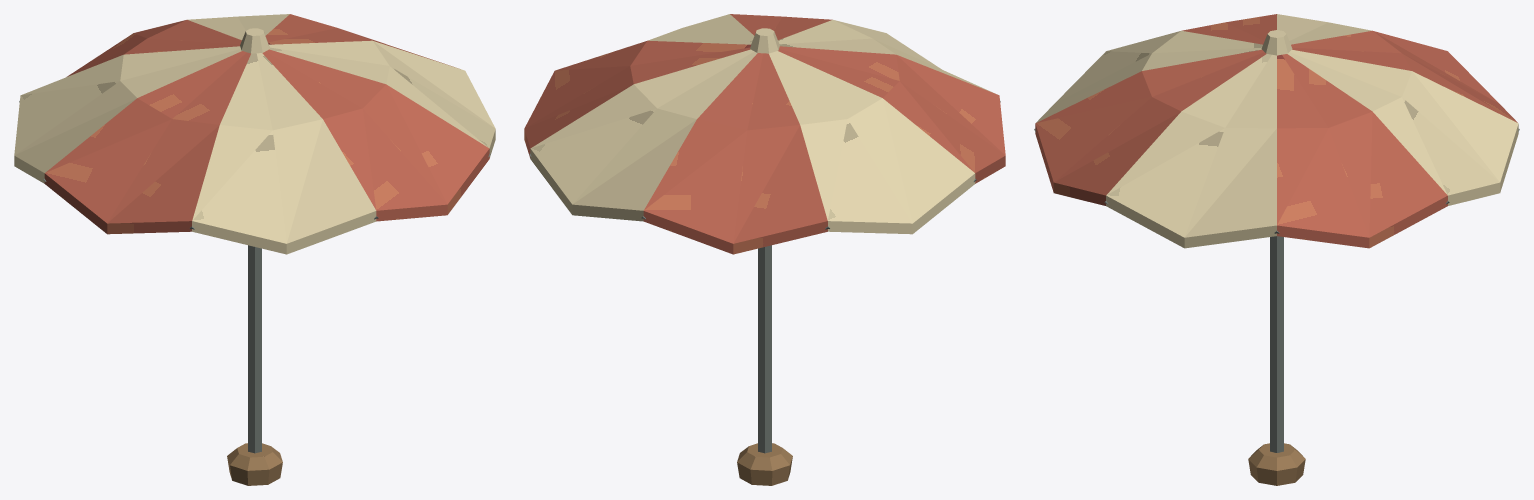
File: umbrella-coral.glb
3 views of the same model, side by side, from view 1: azimuth 30°, elevation 25°; view 2: azimuth 150°, elevation 25°; view 3: azimuth 270°, elevation 25° (orthographic).
Visible parts, largest first — view 1: umbrella-coral; view 2: umbrella-coral; view 3: umbrella-coral.
Part boxes in pixels (left/top/right/bottom): umbrella-coral: left=14, top=14, right=495, bottom=485; umbrella-coral: left=524, top=14, right=1005, bottom=485; umbrella-coral: left=1034, top=14, right=1519, bottom=485.
Bounding box in the file's own units: 2.19 × 2.19 × 2.19.
Materials: 1 (1 with a texture image).
